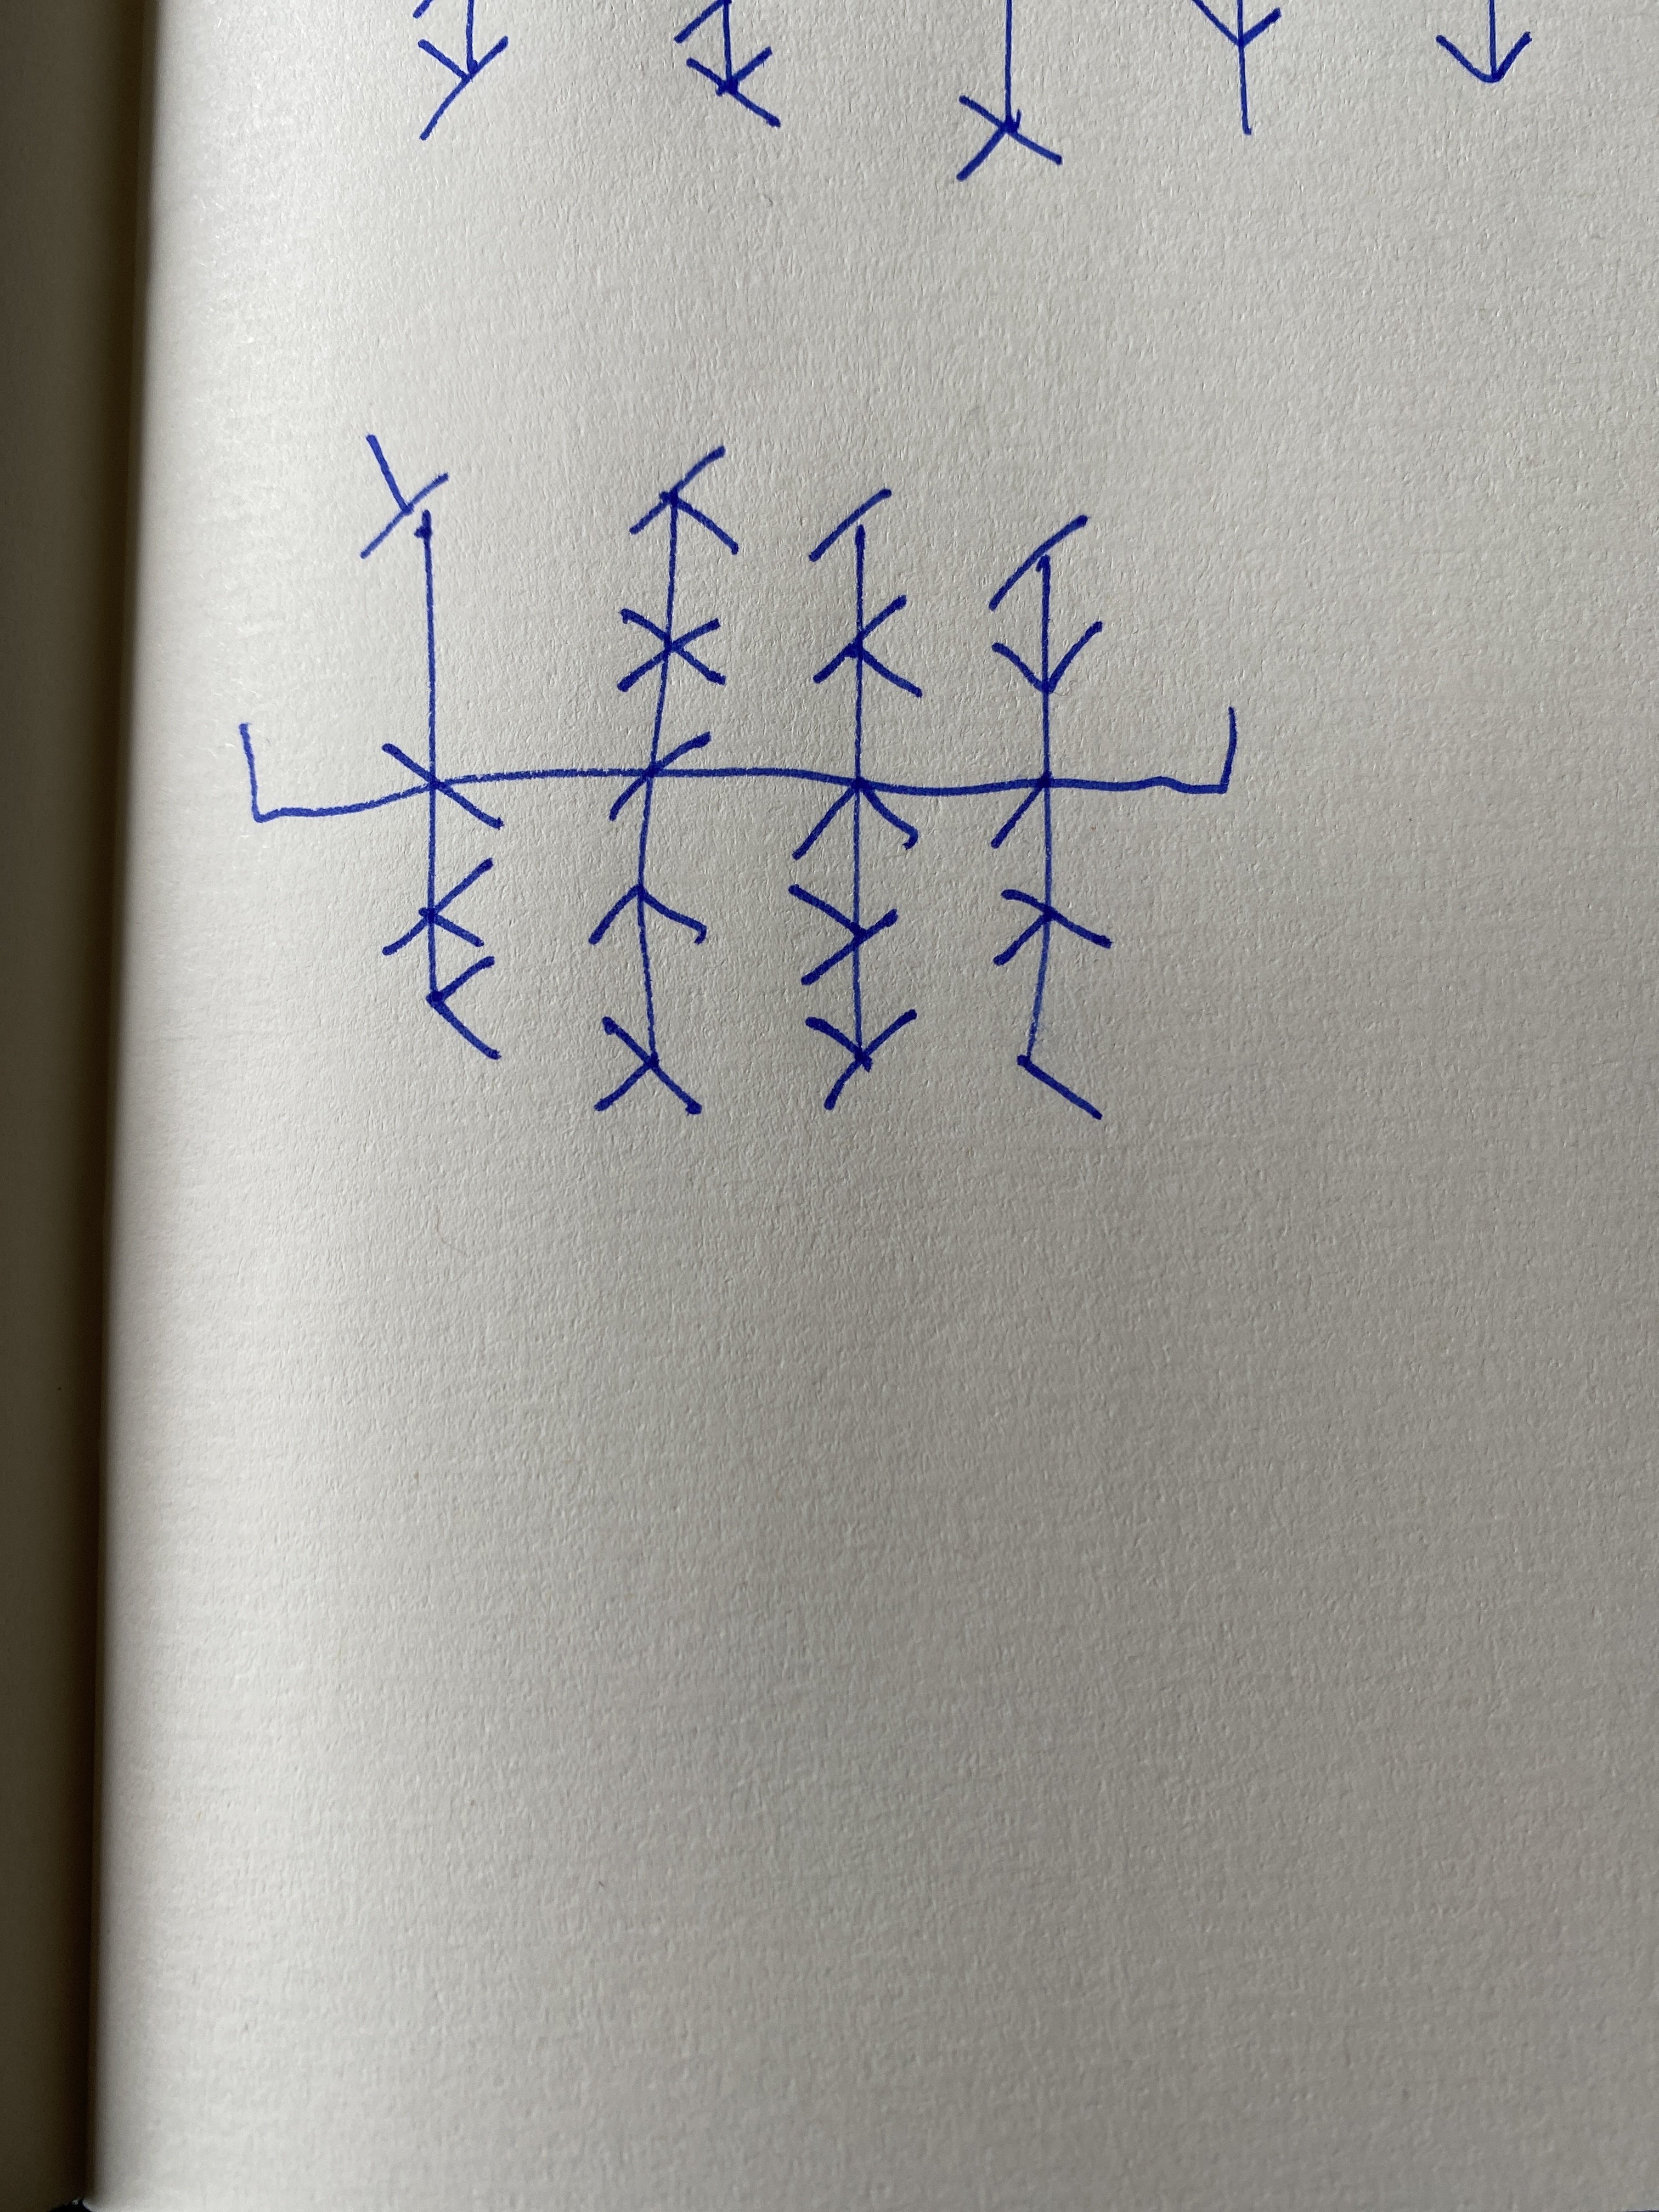Bar: (587, 442, 744, 1115), (359, 434, 505, 1062), (788, 488, 922, 1111), (983, 514, 1114, 1120)
Barcode: (239, 430, 1237, 1123)
End: (1051, 698, 1237, 798)
Start: (235, 725, 380, 826)
